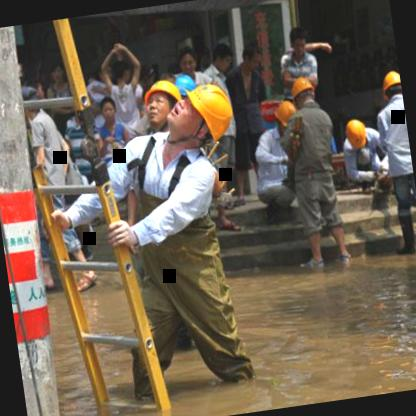head: (105, 54, 134, 90), (207, 41, 236, 75), (174, 46, 202, 80), (284, 23, 310, 59), (96, 94, 123, 128), (45, 58, 67, 90), (240, 40, 263, 70)
helmet: (162, 71, 238, 154), (135, 69, 192, 135), (270, 96, 308, 141), (287, 76, 321, 114), (341, 117, 370, 153), (378, 67, 404, 104)
